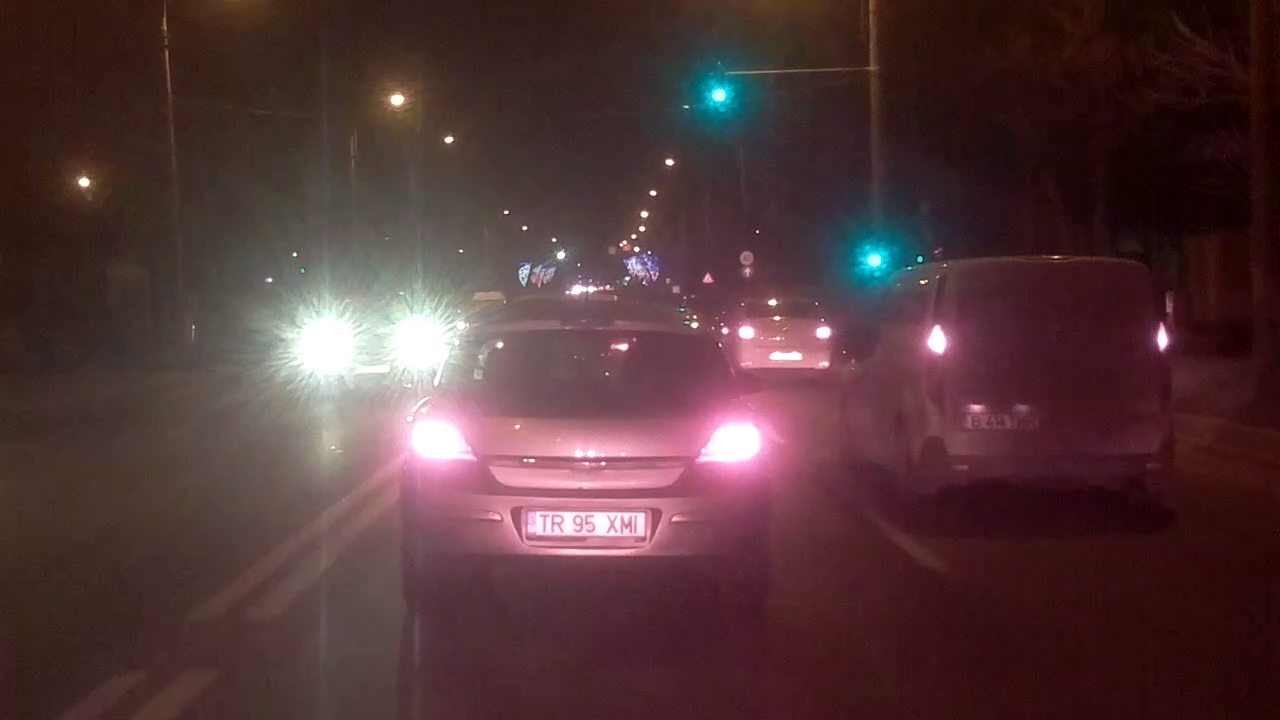license-plate: (520, 506, 651, 541)
